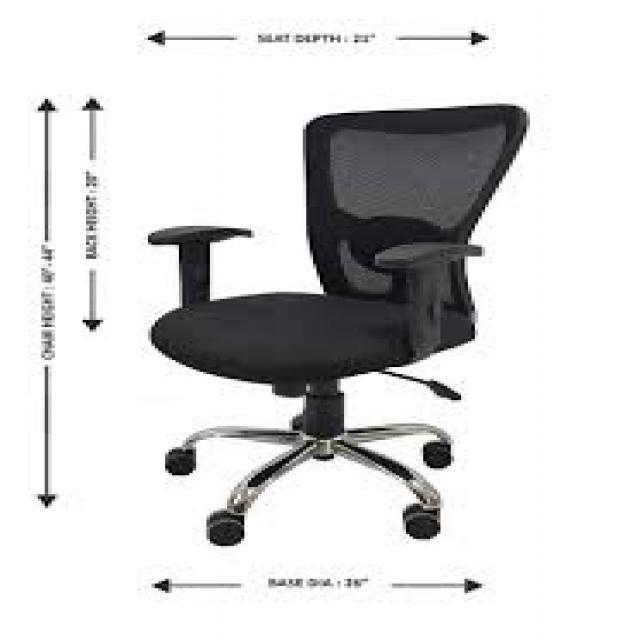chair: (142, 100, 530, 549)
